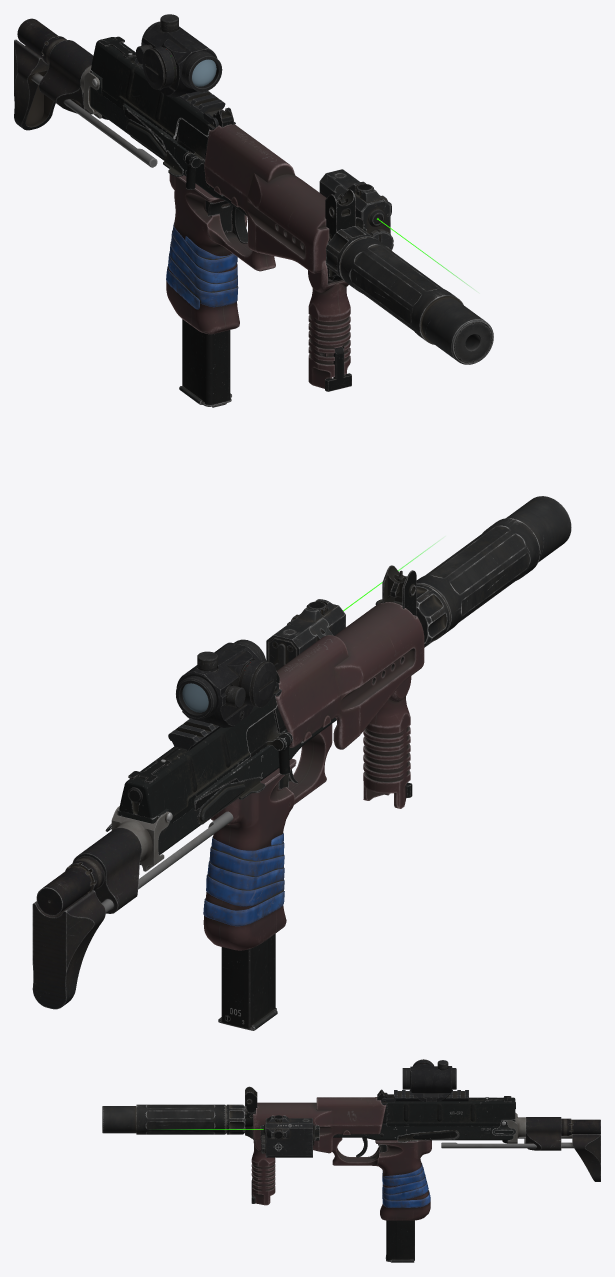
3 renders of one model, top to bottom at view 1: azimuth 30°, elevation 25°; view 2: azimuth 150°, elevation 25°; view 3: azimuth 270°, elevation 25°, orthographic. The views are drawn at different scales.
Parts seen in each view (by area): view 1: wRing.093, wRing, wPlane.045, wPlane.040, wTube.045, Lenta_low, wPlane.036, SM_LASERSIGHT, wRing.014, wRing.016, Circle.002, wRing.007 (+11 smaller); view 2: wRing.093, wRing, wPlane.045, wPlane.040, Lenta_low, wRing.014, wTube.045, wPlane.036, wRing.016, SM_LASERSIGHT, Circle.002, wRing.007 (+9 smaller); view 3: wRing, wRing.093, wPlane.040, wPlane.045, SM_LASERSIGHT, Circle.002, Lenta_low, wRing.007, wTube.045, wRing.016, wPlane.036, wRing.014 (+6 smaller).
Part boxes in pixels (x1,y1,x2,y2): wRing.093: (204, 124, 329, 273); wRing: (325, 226, 493, 364); wPlane.045: (166, 174, 275, 334); wPlane.040: (91, 37, 210, 139); wTube.045: (308, 261, 350, 388); Lenta_low: (166, 223, 238, 309); wPlane.036: (182, 319, 230, 405); SM_LASERSIGHT: (319, 169, 471, 287); wRing.014: (14, 39, 55, 130); wRing.016: (39, 40, 93, 114); Circle.002: (90, 69, 246, 215); wRing.007: (141, 22, 217, 97); wRing.093: (275, 602, 424, 749); wRing: (416, 496, 571, 647); wPlane.045: (203, 724, 332, 950); wPlane.040: (119, 694, 277, 823); Lenta_low: (203, 833, 284, 926); wRing.014: (32, 890, 105, 1009); wTube.045: (363, 676, 411, 808); wPlane.036: (221, 933, 275, 1029); wRing.016: (72, 827, 141, 913); SM_LASERSIGHT: (266, 541, 438, 670); Circle.002: (118, 718, 336, 855); wRing.007: (176, 642, 259, 727); wRing: (102, 1104, 244, 1134); wRing.093: (253, 1097, 386, 1153); wPlane.040: (386, 1097, 515, 1126); wPlane.045: (332, 1137, 431, 1220); SM_LASERSIGHT: (161, 1115, 314, 1157); Circle.002: (333, 1119, 515, 1140); Lenta_low: (382, 1163, 430, 1207); wRing.007: (410, 1064, 452, 1101); wTube.045: (251, 1139, 275, 1205); wRing.016: (526, 1117, 561, 1150); wPlane.036: (386, 1220, 414, 1260); wRing.014: (572, 1134, 600, 1181).
Size of the model in its own units: 0.086 by 0.2764 by 0.7439.
13 materials, 13 textured.
